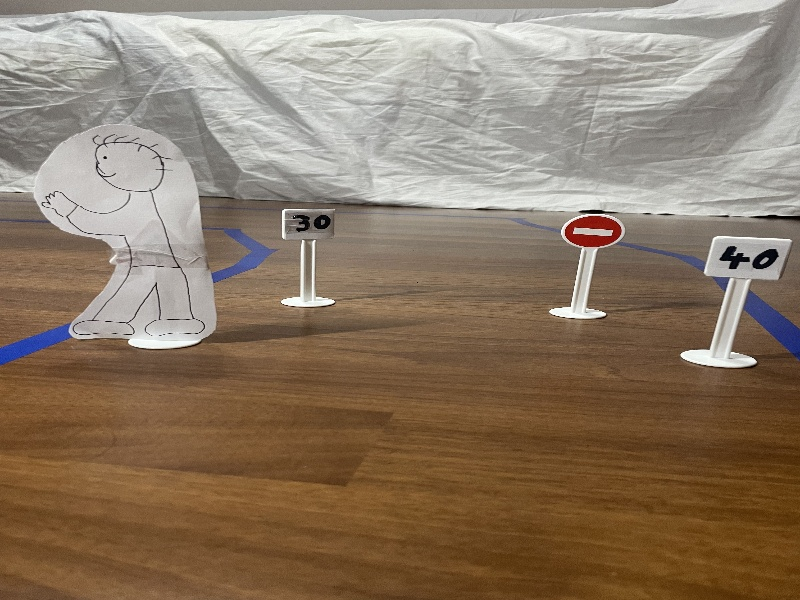interzis: (558, 201, 630, 253)
persoana: (20, 113, 238, 356)
viteza_limita_30: (276, 201, 343, 245)
viteza_limita_40: (699, 225, 793, 290)
